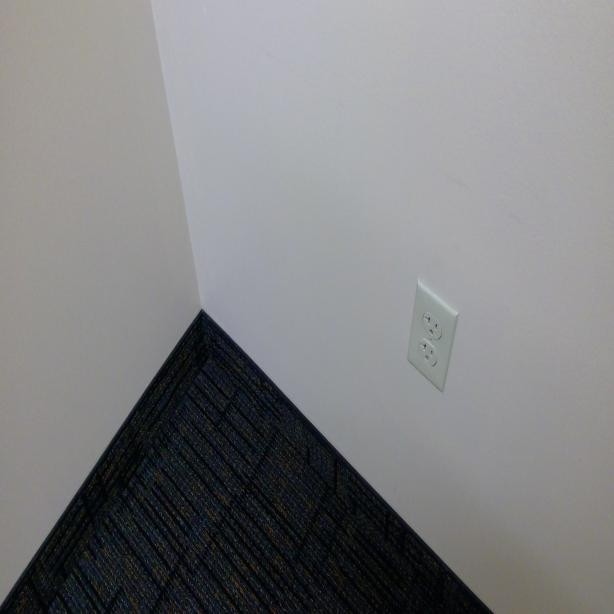typeb: (416, 338, 438, 373), (420, 308, 442, 341)
